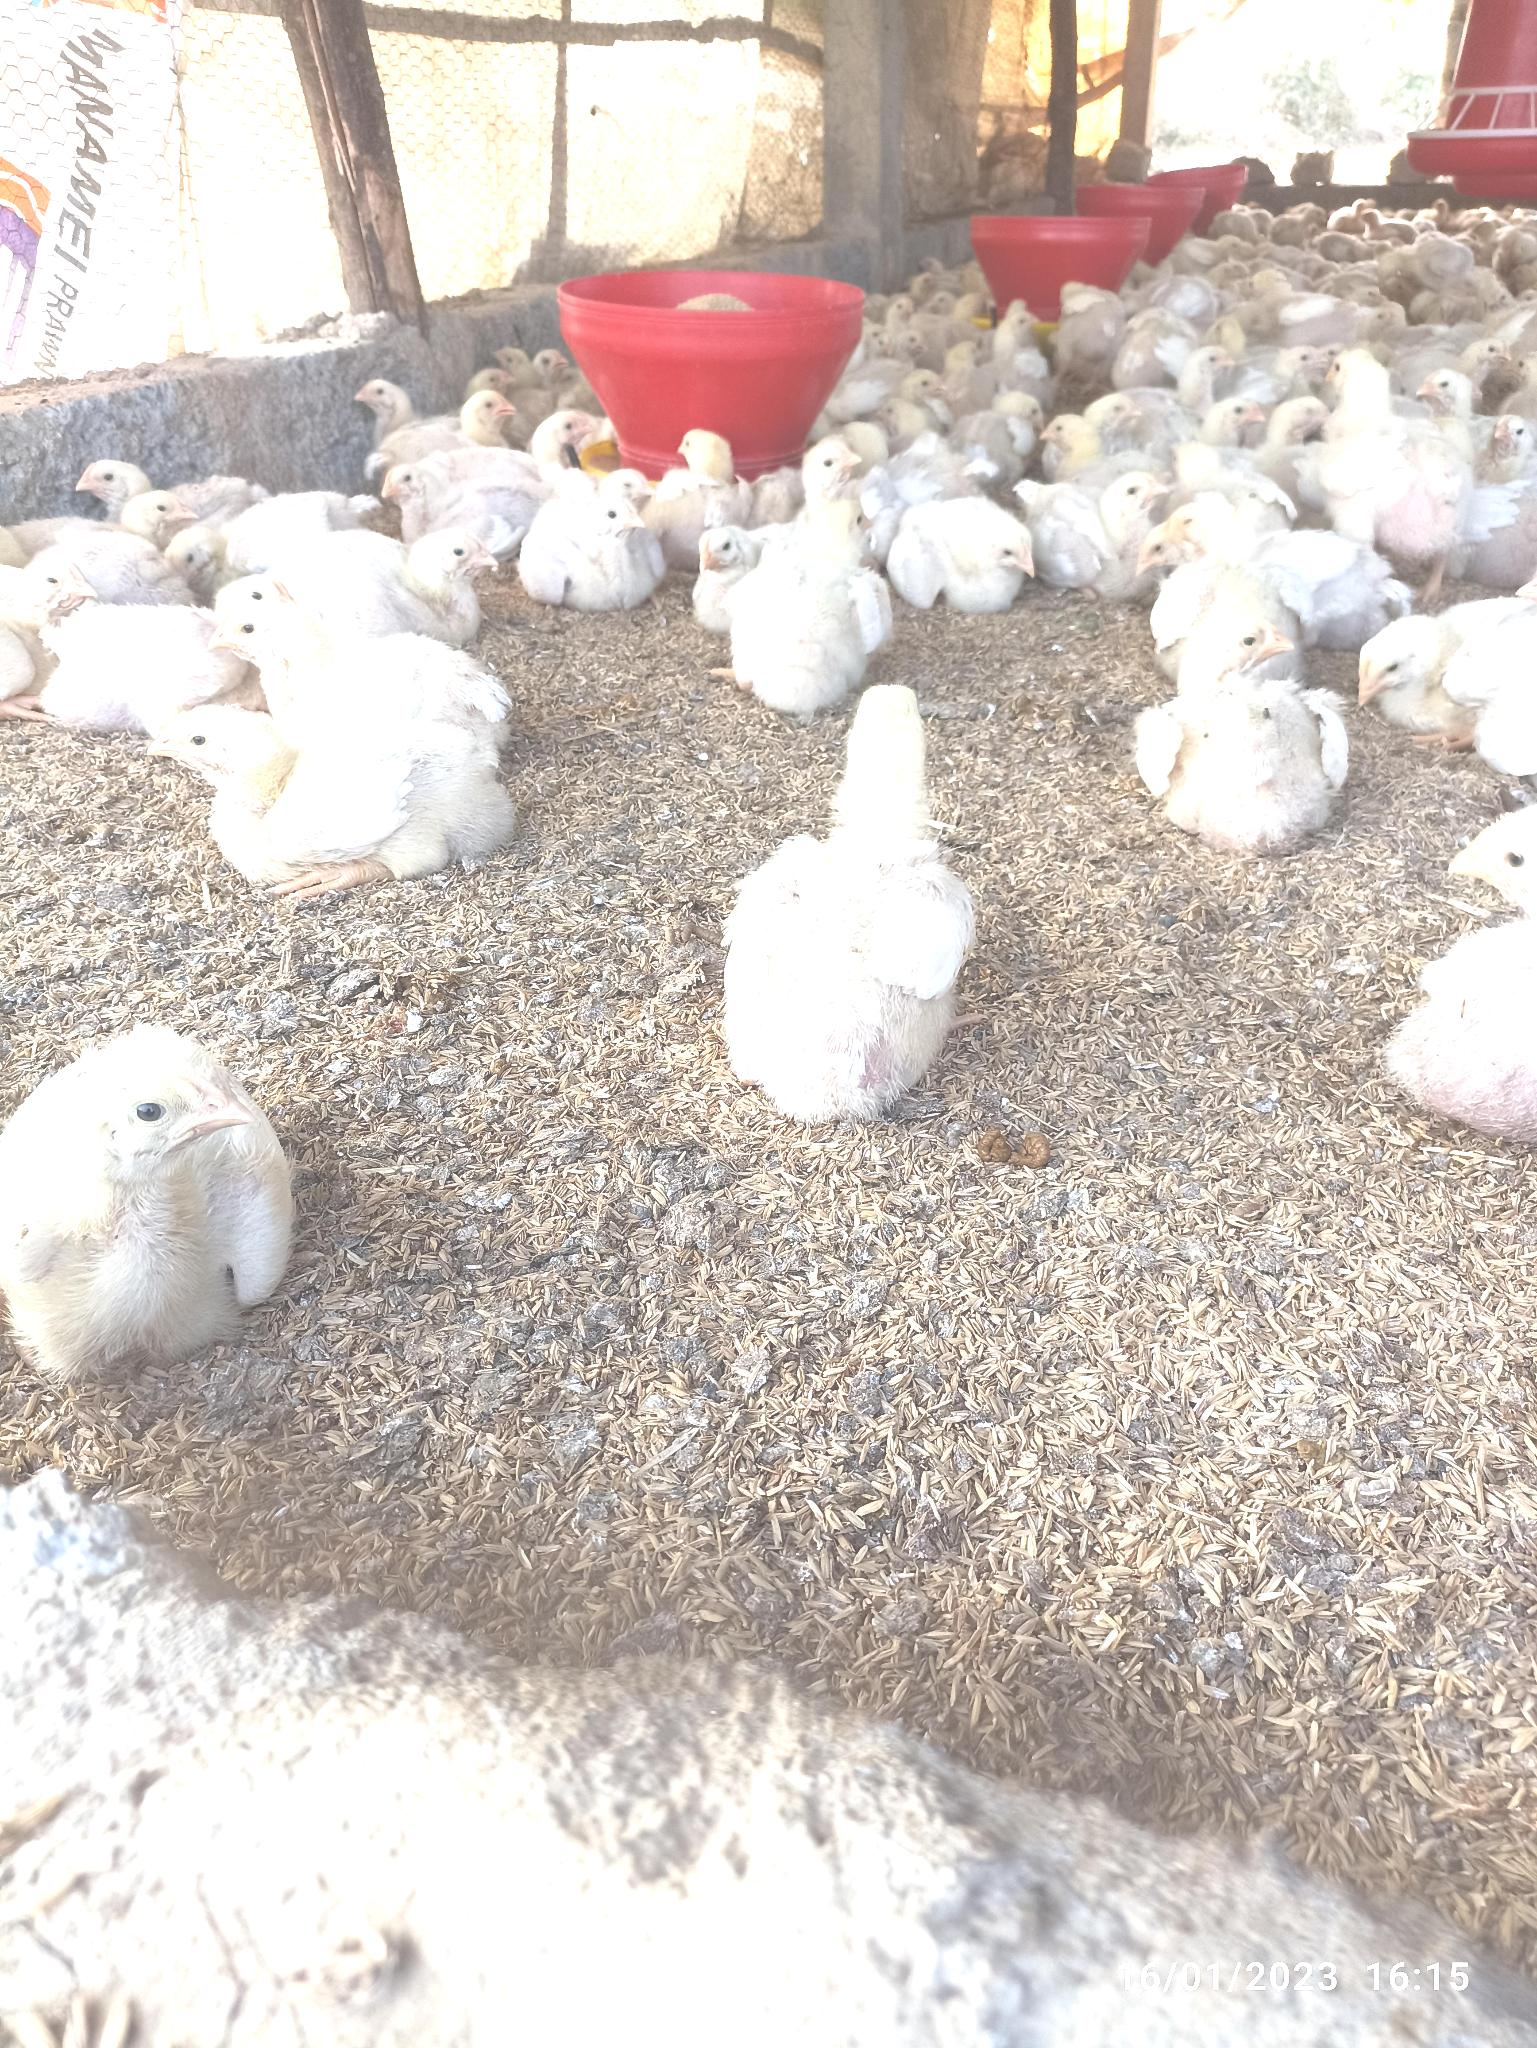Pollos: (731, 683, 969, 1125), (16, 1025, 304, 1381), (150, 697, 525, 884), (1130, 616, 1350, 844), (213, 579, 507, 723), (1298, 349, 1485, 539), (744, 500, 894, 707), (1355, 597, 1537, 744), (11, 557, 132, 720), (76, 445, 266, 545), (320, 525, 480, 637), (1037, 466, 1187, 583), (896, 491, 1037, 607), (525, 494, 654, 607), (384, 453, 534, 526)
